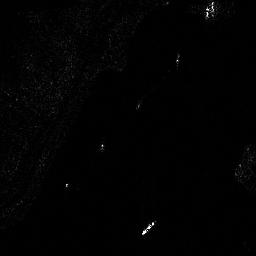ship: (141, 219, 156, 236)
